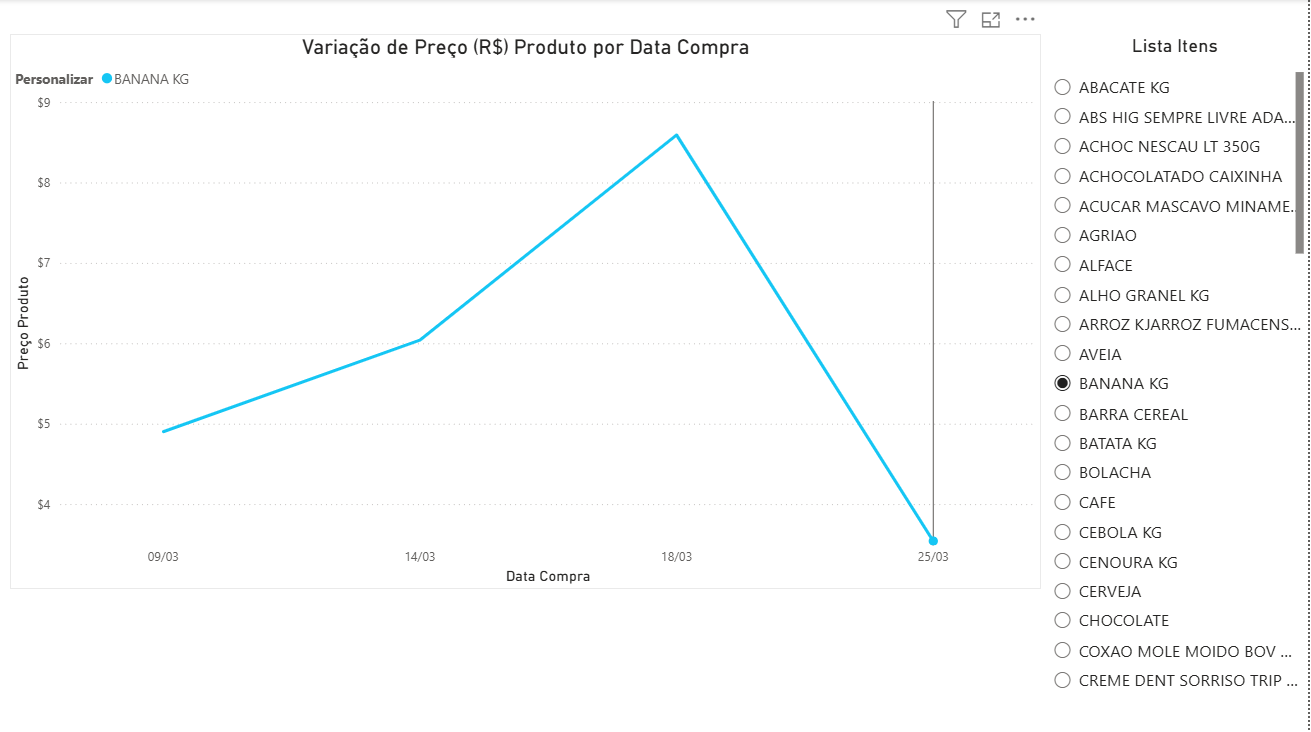

What the dashboard file says about the page in this screenshot:
{"tool":"powerbi","page":{"name":"Variação de Preço Produto","canvas":[1280,720],"ordinal":3},"visuals":[{"type":"lineChart","title":"Variação de Preço (R$) Produto por Data Compra","fields":{"Category":["Mercado.Filtro Data"],"Series":["Mercado.Personalizar"],"Y":["Mercado.Total Qtd"]},"box":[9.8,34.2,968.5,648.1],"z":0},{"type":"slicer","title":"Lista Itens","fields":{"Values":["Mercado.Personalizar"]},"box":[991.7,34.2,288.6,646.9],"z":1000}]}

Visuals, with their boxes in screenshot pixels (x1, y1, x2, y2), scaled from the page's 1280x720 canvas onto the 1311x732 screenshot:
"Variação de Preço (R$) Produto por Data Compra" lineChart: select_region(10, 35, 1002, 694)
"Lista Itens" slicer: select_region(1016, 35, 1310, 692)
